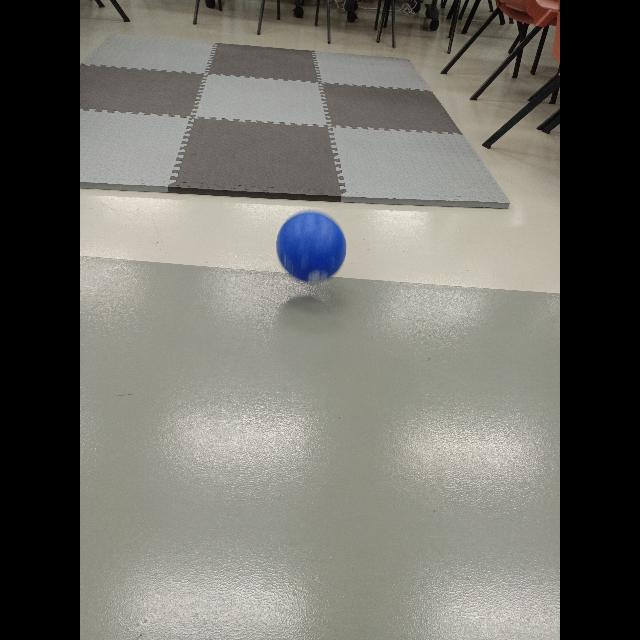B: (274, 204, 352, 290)
